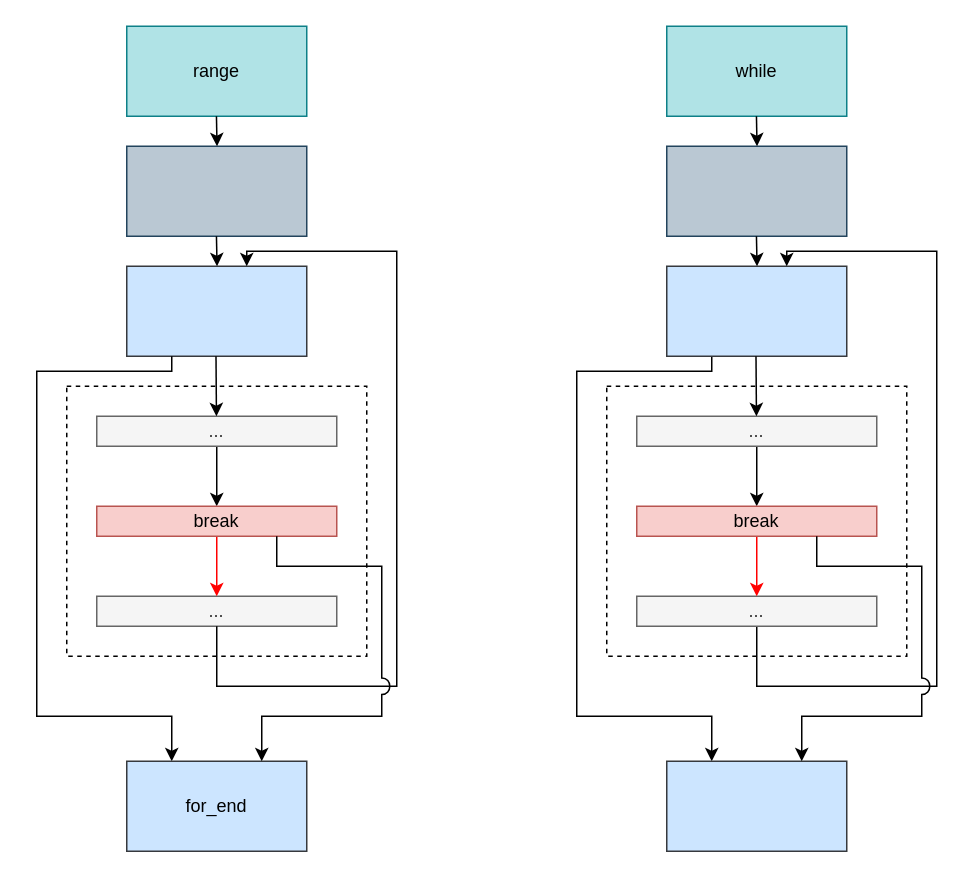
Image size: 975x878. Some labels were removed from this diagram. Here are the shapes that lost their labels. From the top down, the centre of each, then its label:
(x=216, y=190): iter_var
(x=756, y=190): expression
(x=216, y=310): for
(x=756, y=310): while_body
(x=756, y=805): while_end
